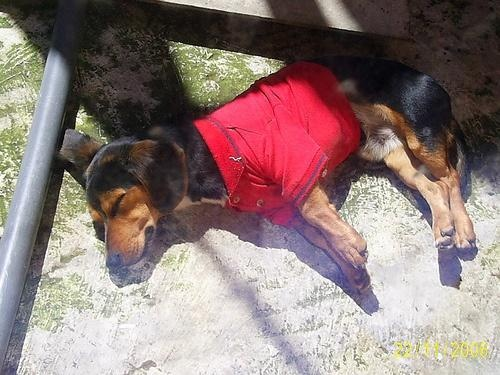dog: (54, 57, 480, 294)
